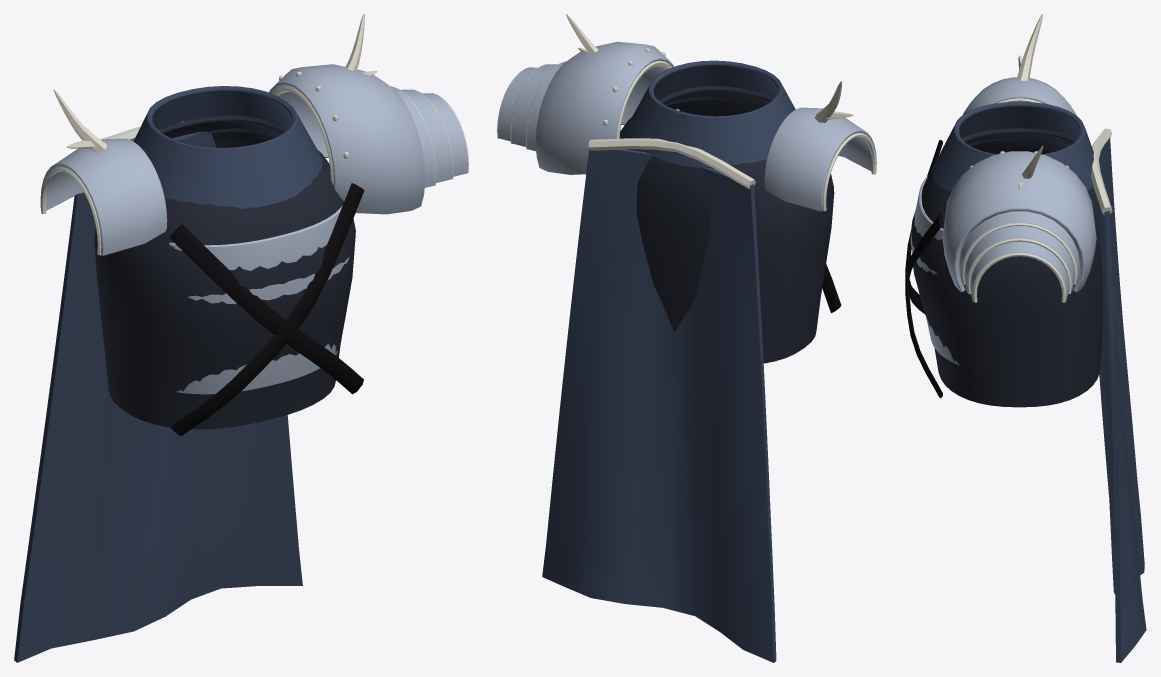
File: boss_pale_requiem_armor.glb
The picture shows the model from 3 angles, left to right: view 1: azimuth 30°, elevation 25°; view 2: azimuth 150°, elevation 25°; view 3: azimuth 270°, elevation 25°; orthographic projection. The views are drawn at different scales.
Parts seen in each view (by area): view 1: boss_pale_requiem_armor, AT_upper_arm_L, AT_upper_arm_R; view 2: boss_pale_requiem_armor, AT_upper_arm_L, AT_upper_arm_R; view 3: boss_pale_requiem_armor, AT_upper_arm_L, AT_upper_arm_R.
Part boxes in pixels (left/top/right/bottom): boss_pale_requiem_armor: left=14, top=86, right=364, bottom=662; AT_upper_arm_L: left=269, top=14, right=468, bottom=214; AT_upper_arm_R: left=40, top=89, right=167, bottom=255; boss_pale_requiem_armor: left=542, top=60, right=841, bottom=662; AT_upper_arm_L: left=497, top=14, right=679, bottom=174; AT_upper_arm_R: left=764, top=81, right=876, bottom=211; boss_pale_requiem_armor: left=905, top=101, right=1146, bottom=662; AT_upper_arm_L: left=942, top=146, right=1096, bottom=302; AT_upper_arm_R: left=963, top=14, right=1076, bottom=115.
Bounding box in the file's own units: 0.8257 × 1.3 × 0.5229.
